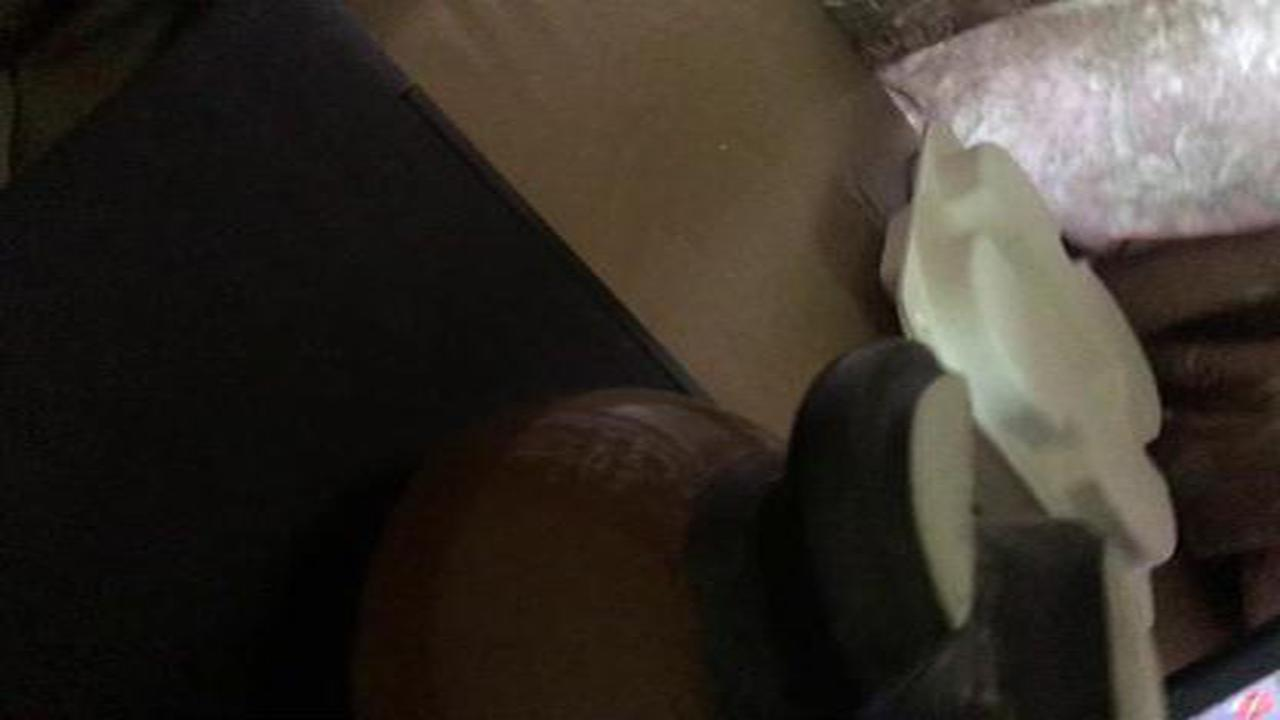insulator_pin: (339, 335, 1185, 719)
